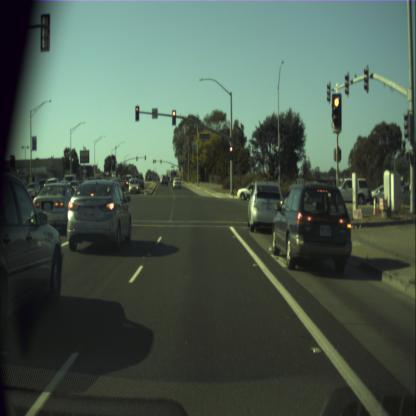Red: (332, 93, 341, 132), (172, 110, 176, 124), (230, 145, 233, 159)
RedLeft: (136, 106, 138, 120)
